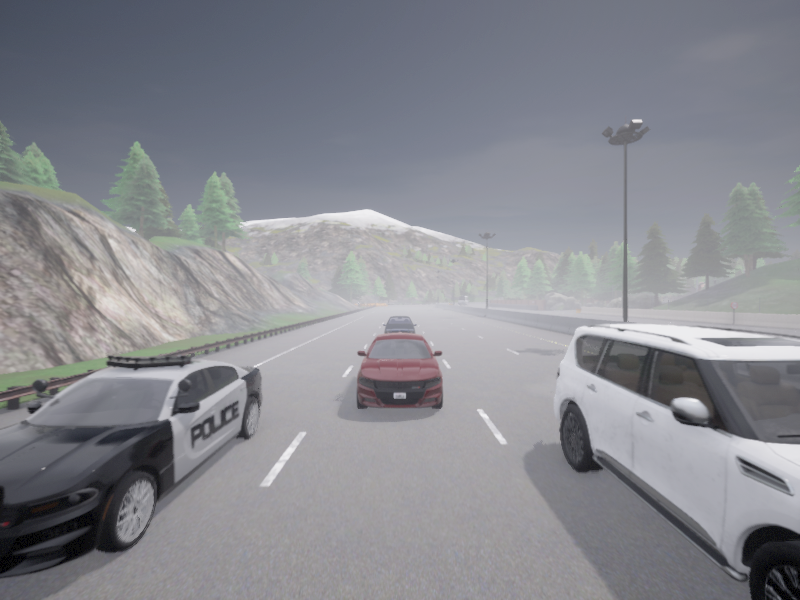vehicle: (553, 324, 799, 599), (0, 354, 262, 578), (357, 331, 442, 408), (383, 316, 416, 333), (458, 296, 468, 304), (662, 301, 670, 303), (448, 302, 452, 304)
